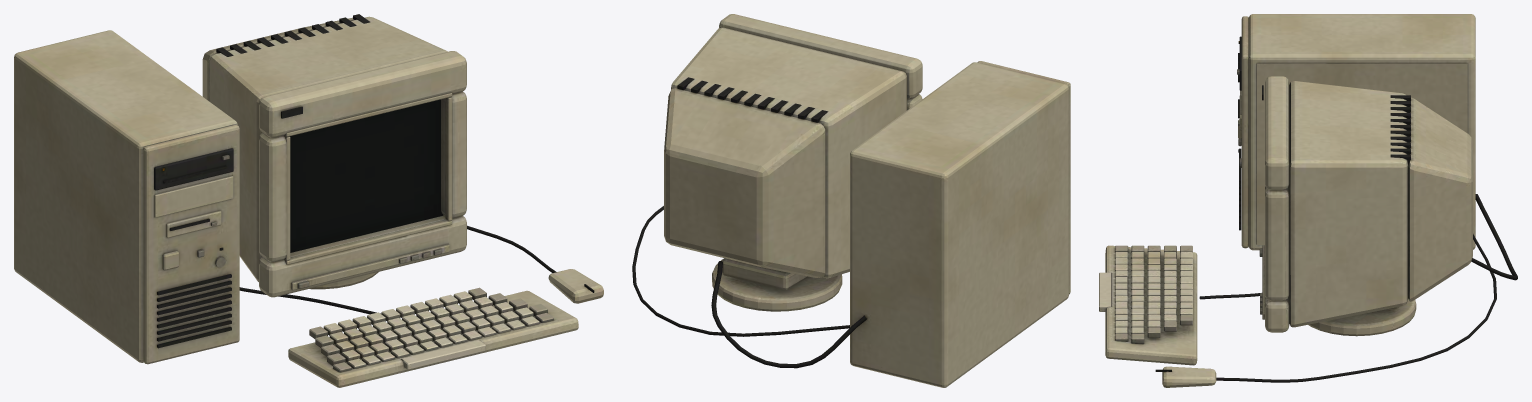
The model's file is office_pc.glb.
3 views of the same model, side by side, from view 1: azimuth 30°, elevation 25°; view 2: azimuth 150°, elevation 25°; view 3: azimuth 270°, elevation 25° (orthographic). The views are drawn at different scales.
Parts seen in each view (by area): view 1: office_pc; view 2: office_pc; view 3: office_pc.
Boxes of the visible parts, <box> form: office_pc: <box>14,14,603,387</box>; office_pc: <box>632,14,1070,387</box>; office_pc: <box>1099,14,1517,387</box>.
Size of the model in its own units: 0.7946 by 0.404 by 0.7752.
Materials: 1 (1 with a texture image).
